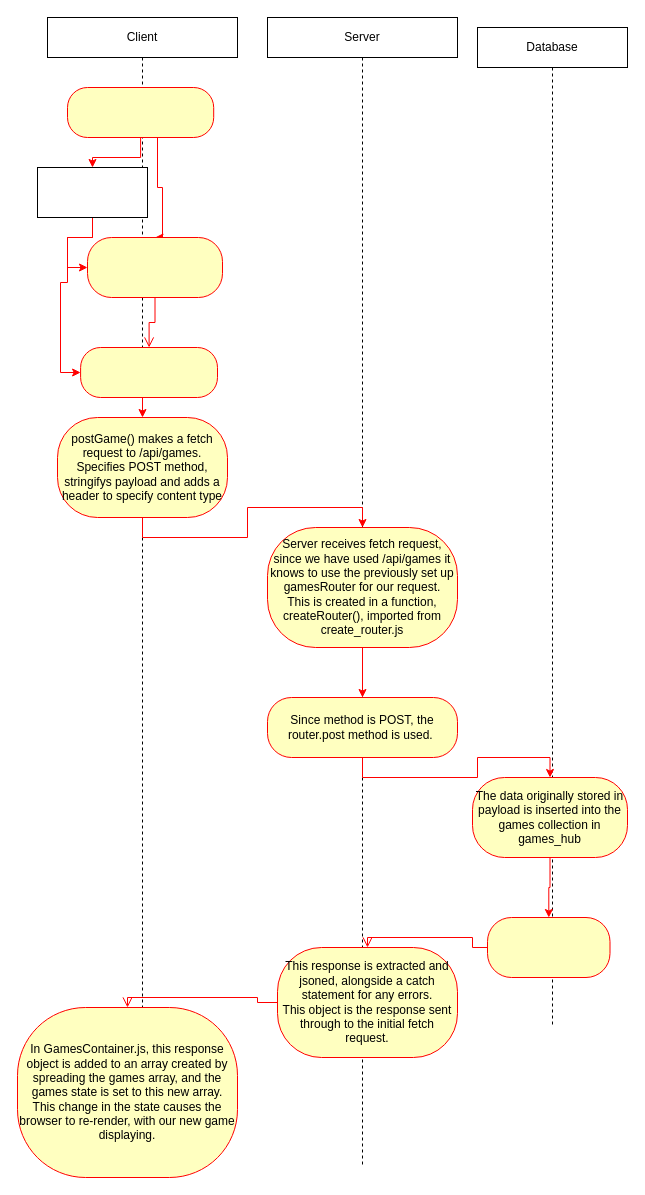
Some shapes in this 645 by 1195 pixel diagram are drawn without their labels. The shapes that lost their labels are listed below. From the top down, each one's centre as x and y in pixels, then its label:
the point at 140,112: Form Submission Happens in GameForm.js
the point at 92,192: Payload Object constructed from form inputs
the point at 154,267: Calls createGame() Passed as a prop from GamesContainer.js
the point at 149,372: Calls postGame() imported from GamesService.js
the point at 548,947: The newly stored object is returned as a response from the database
